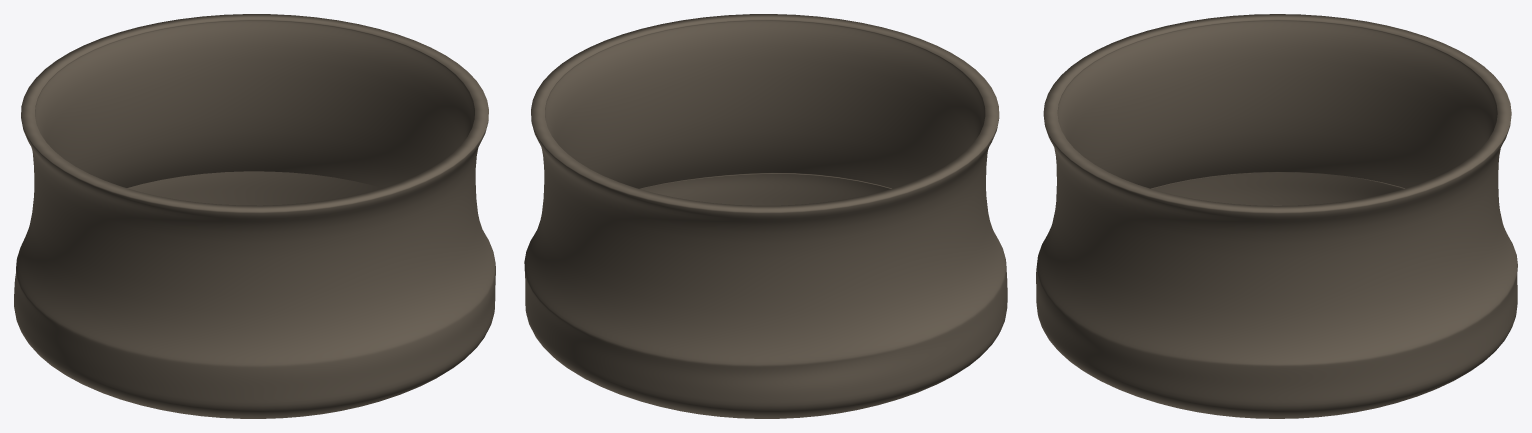
The model's file is cuencaMaya2.glb.
3 views of the same model, side by side, from view 1: azimuth 30°, elevation 25°; view 2: azimuth 150°, elevation 25°; view 3: azimuth 270°, elevation 25° (orthographic).
Parts seen in each view (by area): view 1: Cilindro; view 2: Cilindro; view 3: Cilindro.
Boxes of the visible parts, <box> form: Cilindro: <box>14,14,495,418</box>; Cilindro: <box>524,14,1007,418</box>; Cilindro: <box>1036,14,1517,418</box>.
Size of the model in its own units: 1.04 by 0.5295 by 1.04.
